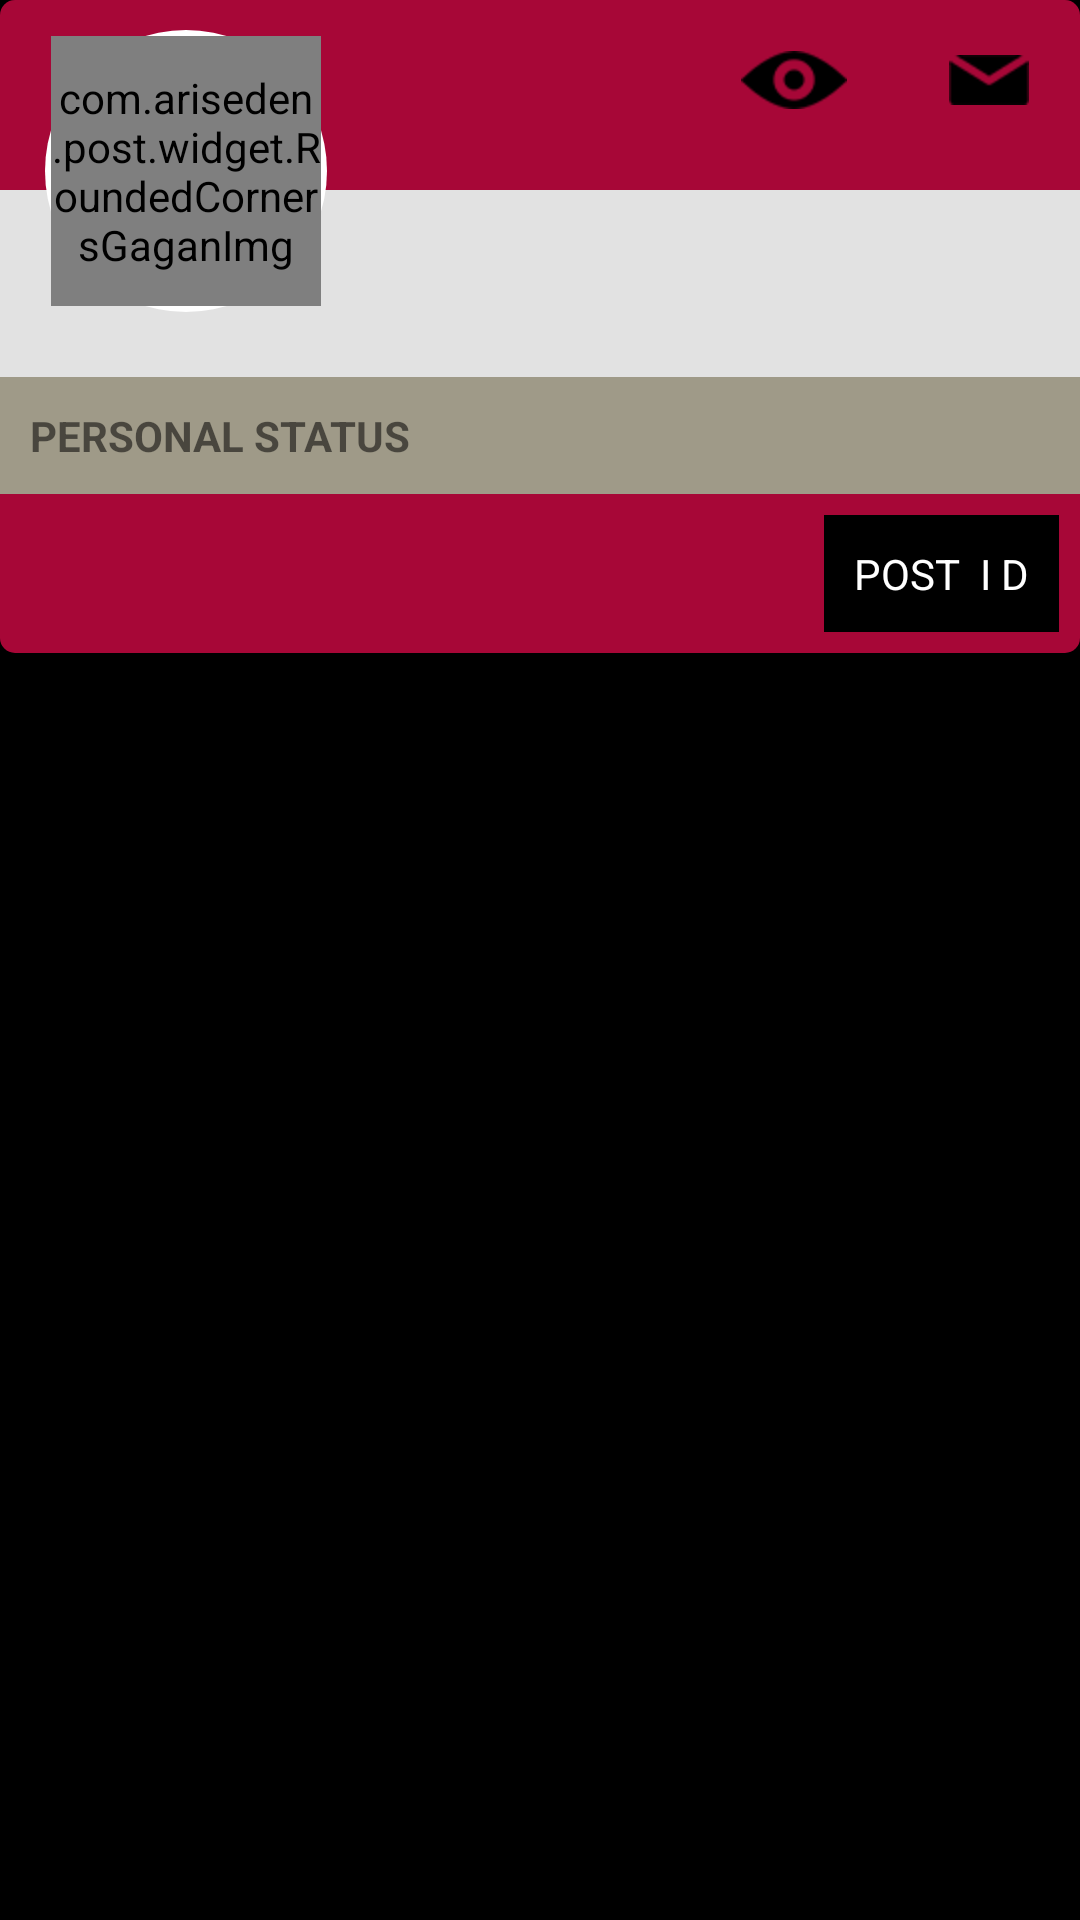

Icons on this 1080×1920 Android screen, each with the point to tap as (x,y):
eyes: (794,80)
messageicon: (989,80)
